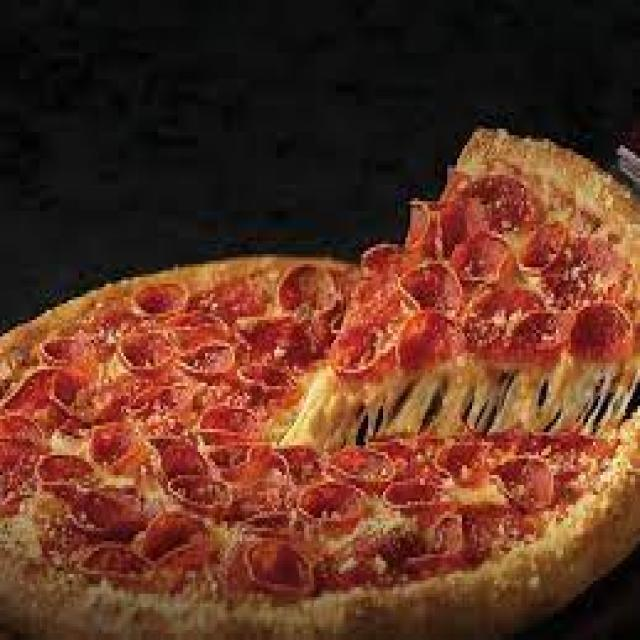Pizza: (16, 248, 640, 640)
